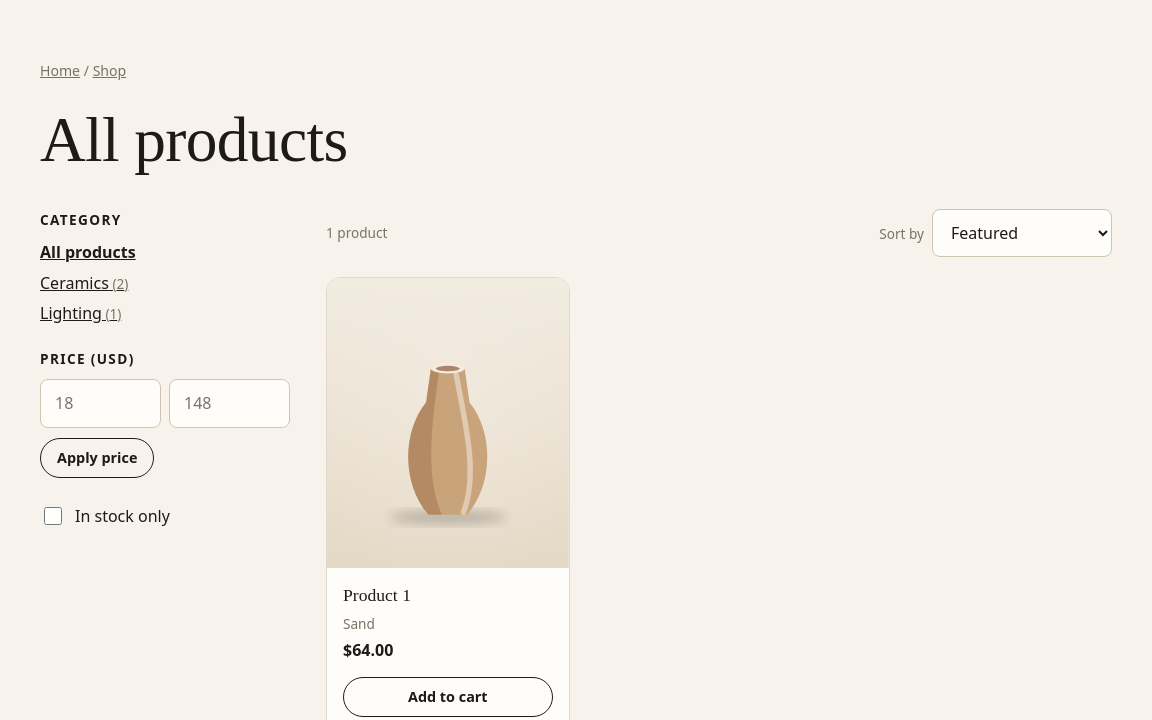
Test: ShopPage › validates the price range before searching
expect the link "Product 1" is shown: met, box [343,585,411,605]
Type "90" into the field named "Minimum price" at (100, 404), box [40,379,161,428]
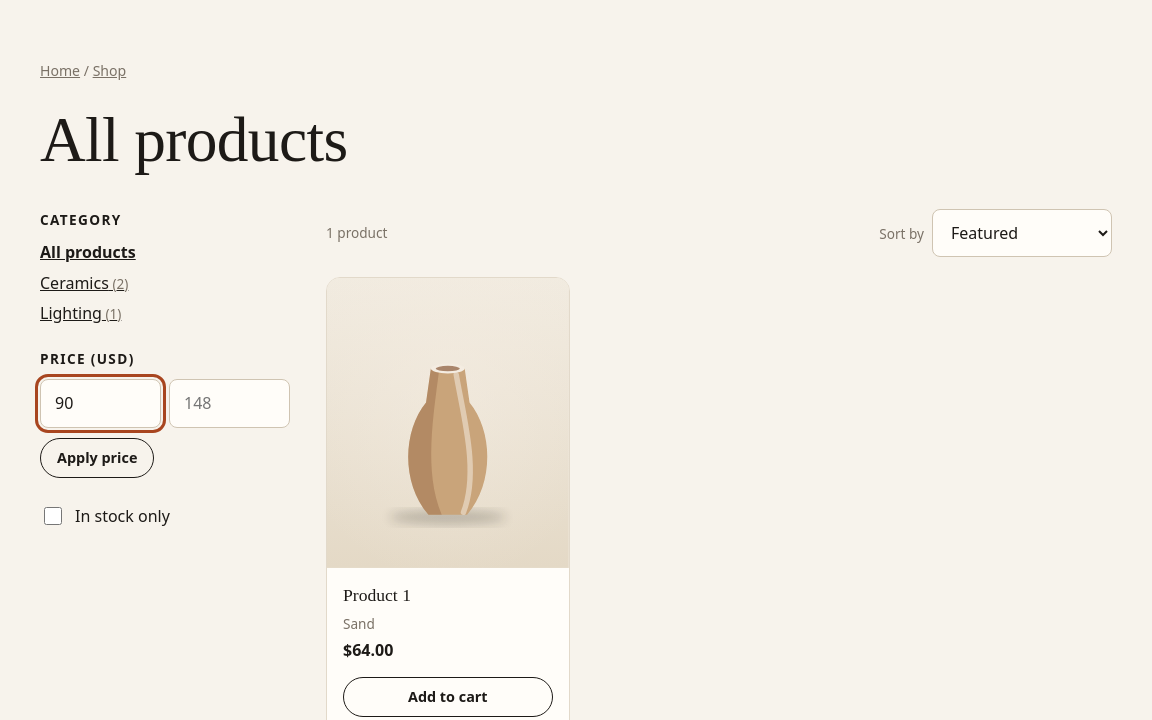
Type "20" into the field named "Maximum price" at (230, 404), box [169,379,290,428]
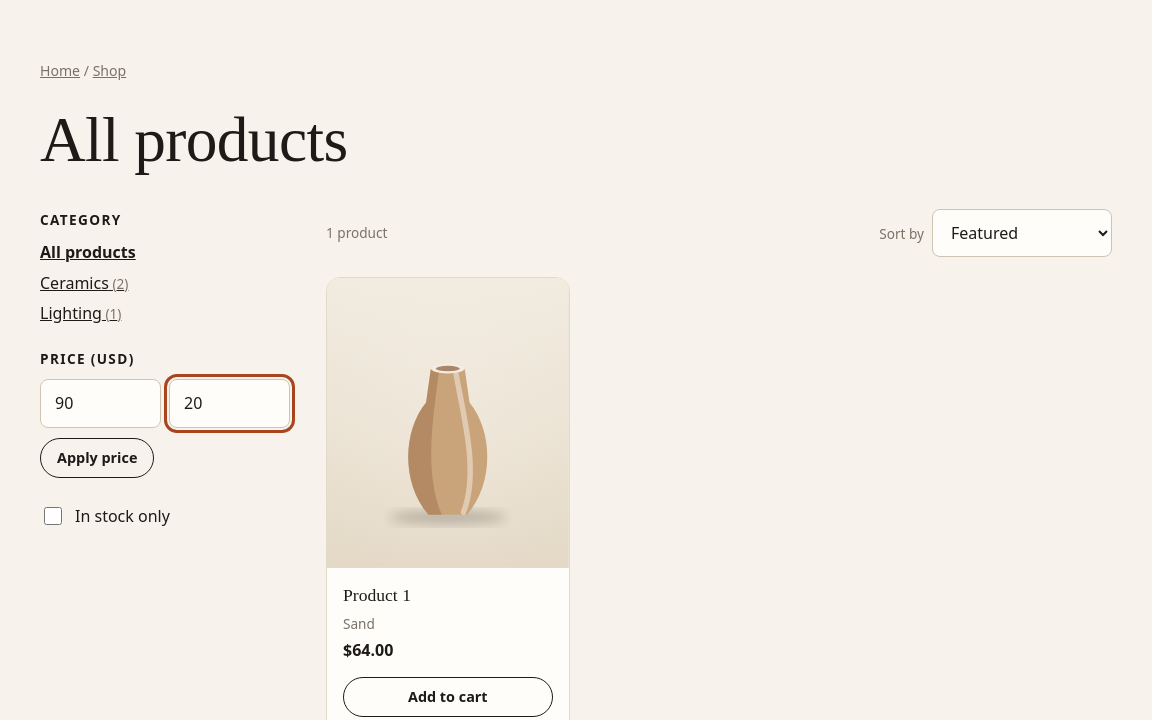
Click the button "Apply price" at (97, 458), box [40,438,154,478]
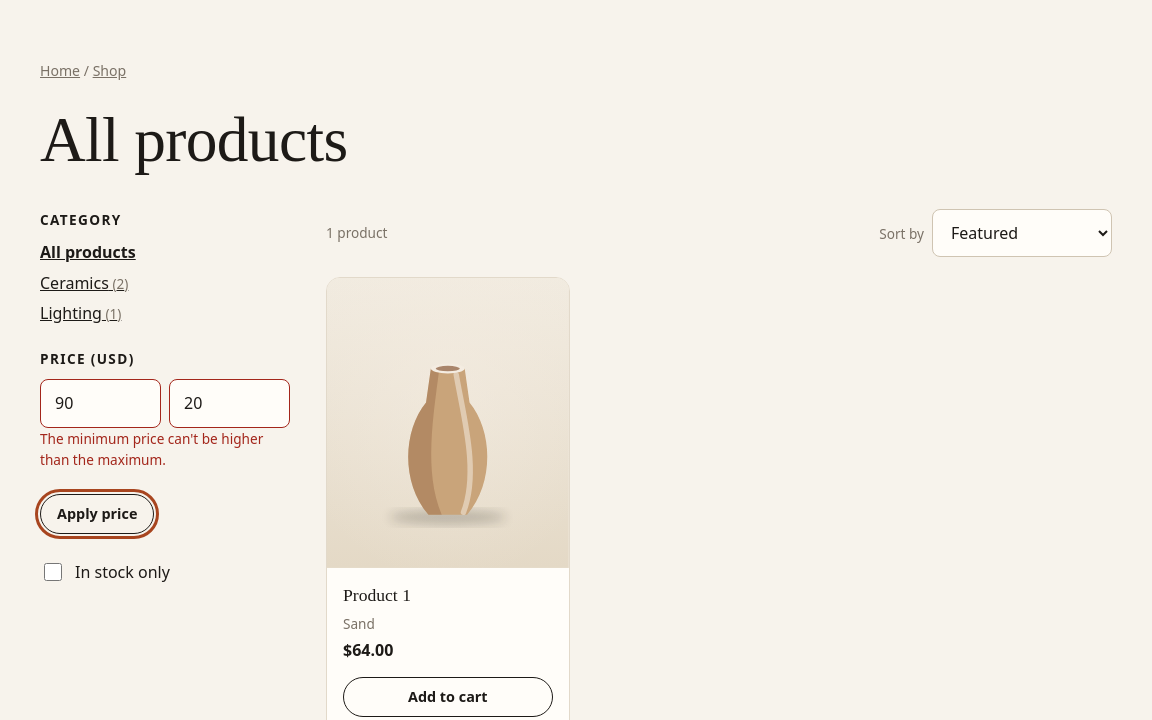
expect the message "The minimum price can't be higher than the maximum." is shown: met, box [40,428,290,470]
